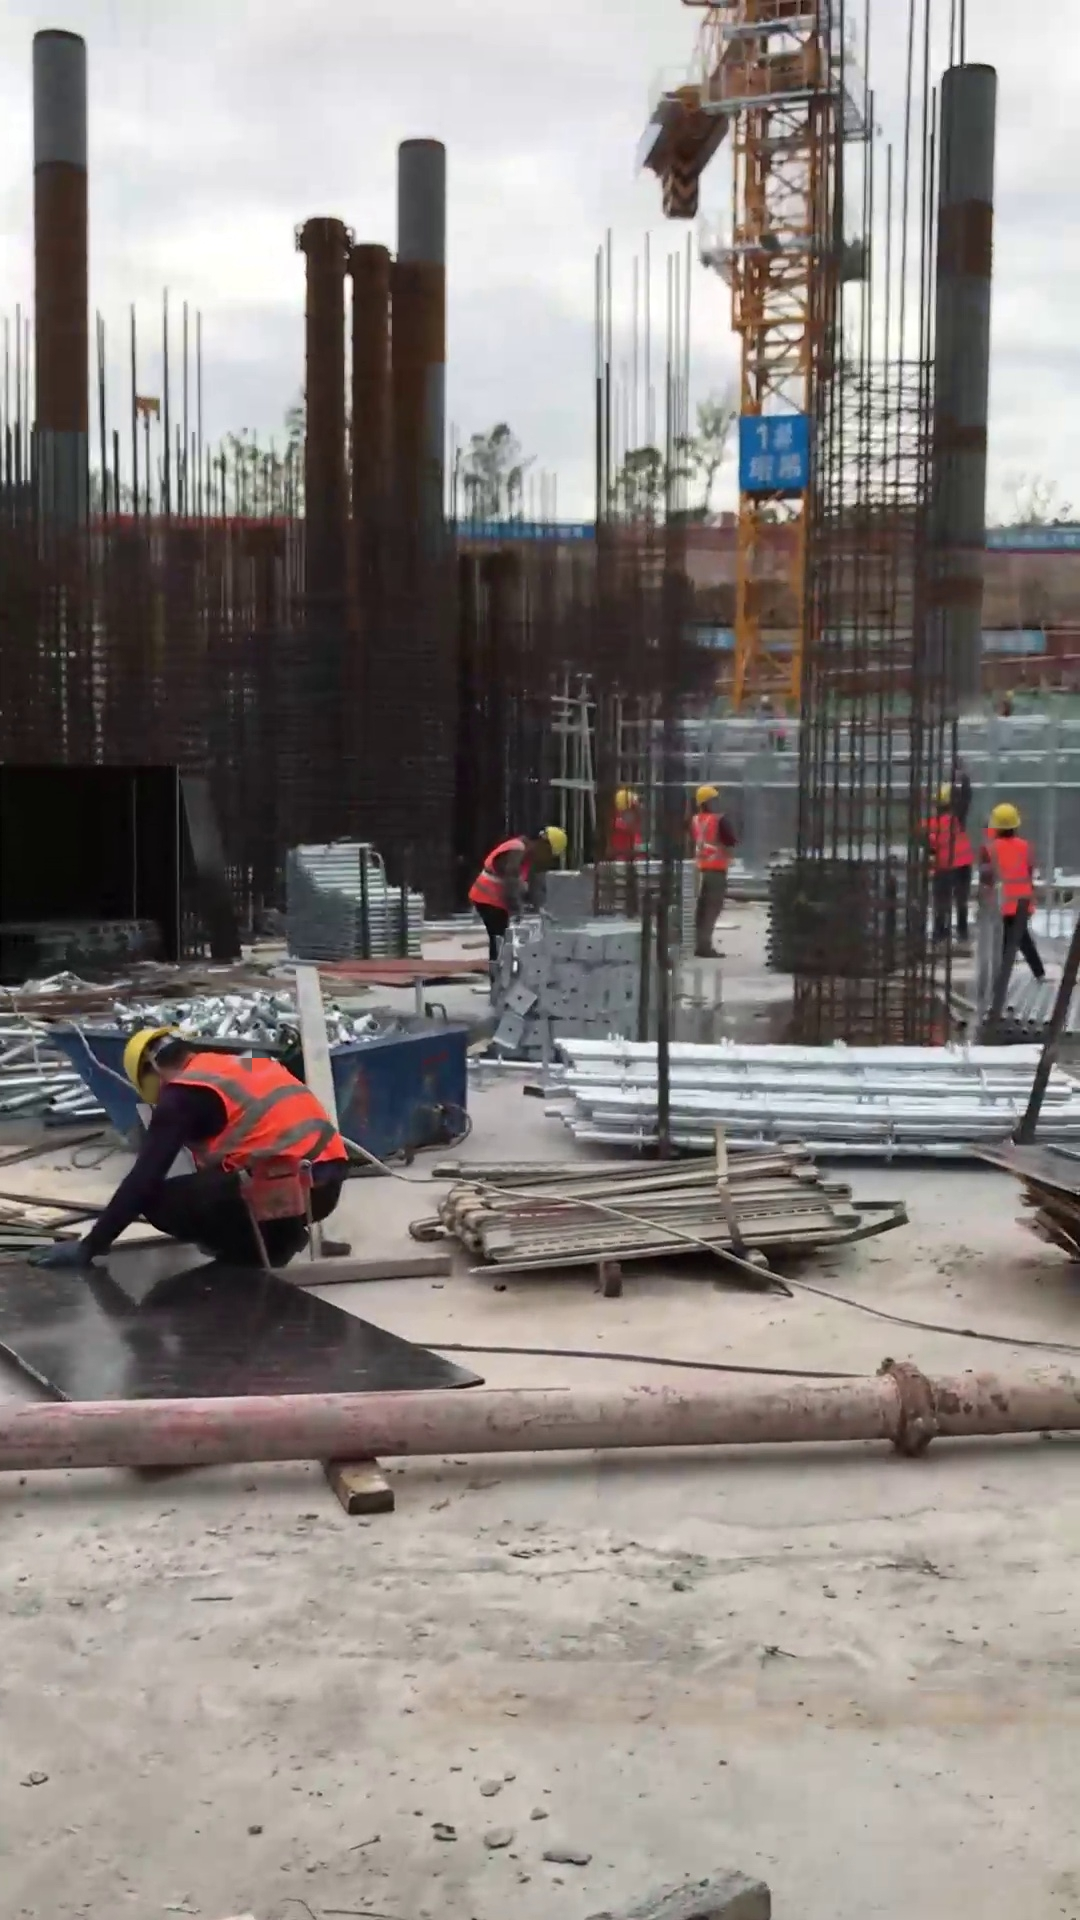helmet: (118, 1028, 175, 1093), (984, 797, 1021, 834), (538, 822, 569, 860), (929, 776, 953, 810), (609, 788, 643, 814), (694, 782, 719, 808)
hook: (132, 393, 163, 430)
hopper: (41, 1017, 472, 1164)
person: (22, 1026, 353, 1274), (467, 822, 569, 964), (977, 799, 1050, 987), (916, 755, 982, 951), (685, 782, 738, 961), (606, 787, 649, 865)
scaffold: (541, 1036, 1080, 1159), (284, 836, 427, 967)
slogan: (739, 409, 811, 495), (451, 520, 593, 542)
vest: (174, 1050, 346, 1174), (467, 837, 536, 917), (979, 833, 1038, 918), (919, 809, 978, 872), (687, 811, 732, 872), (607, 813, 647, 862)
